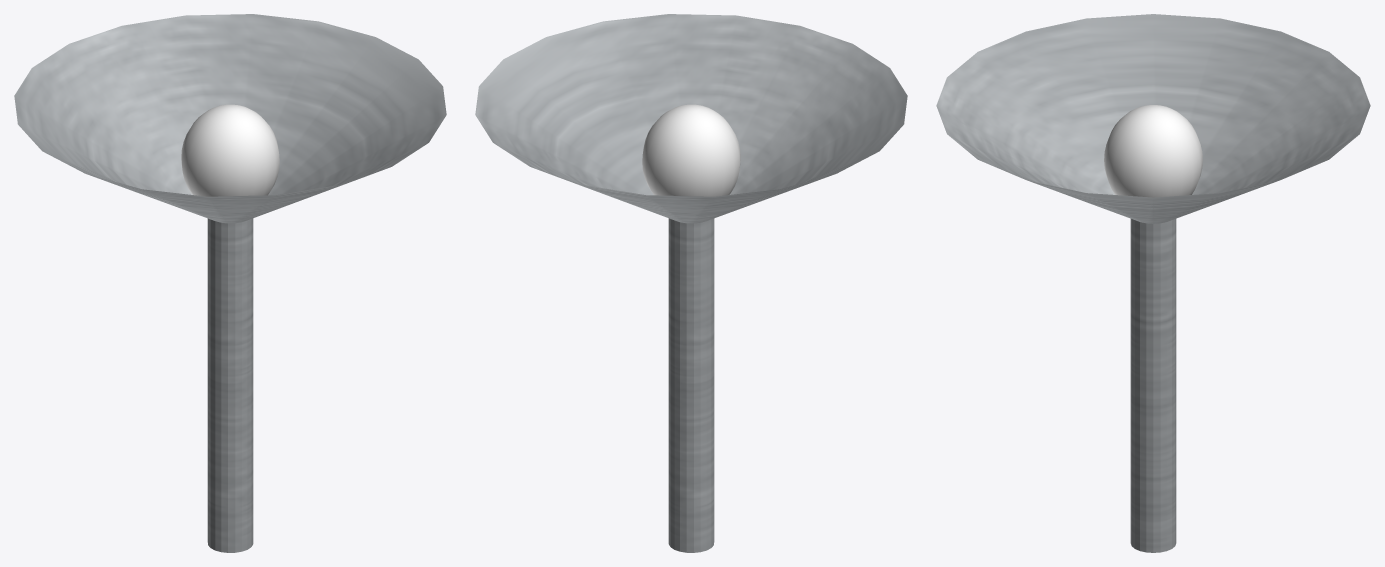
File: Lampara.obj
The picture shows the model from 3 angles, left to right: view 1: azimuth 30°, elevation 25°; view 2: azimuth 150°, elevation 25°; view 3: azimuth 270°, elevation 25°; orthographic projection.
Visible parts, largest first — view 1: pasted__pCylinder8; view 2: pasted__pCylinder8; view 3: pasted__pCylinder8.
Part boxes in pixels (left/top/right/bottom): pasted__pCylinder8: left=14, top=14, right=446, bottom=552; pasted__pCylinder8: left=475, top=14, right=907, bottom=552; pasted__pCylinder8: left=936, top=14, right=1370, bottom=552.
Bounding box in the file's own units: 0.5435 × 0.6042 × 0.5435.
Materials: 2 (2 with a texture image).
